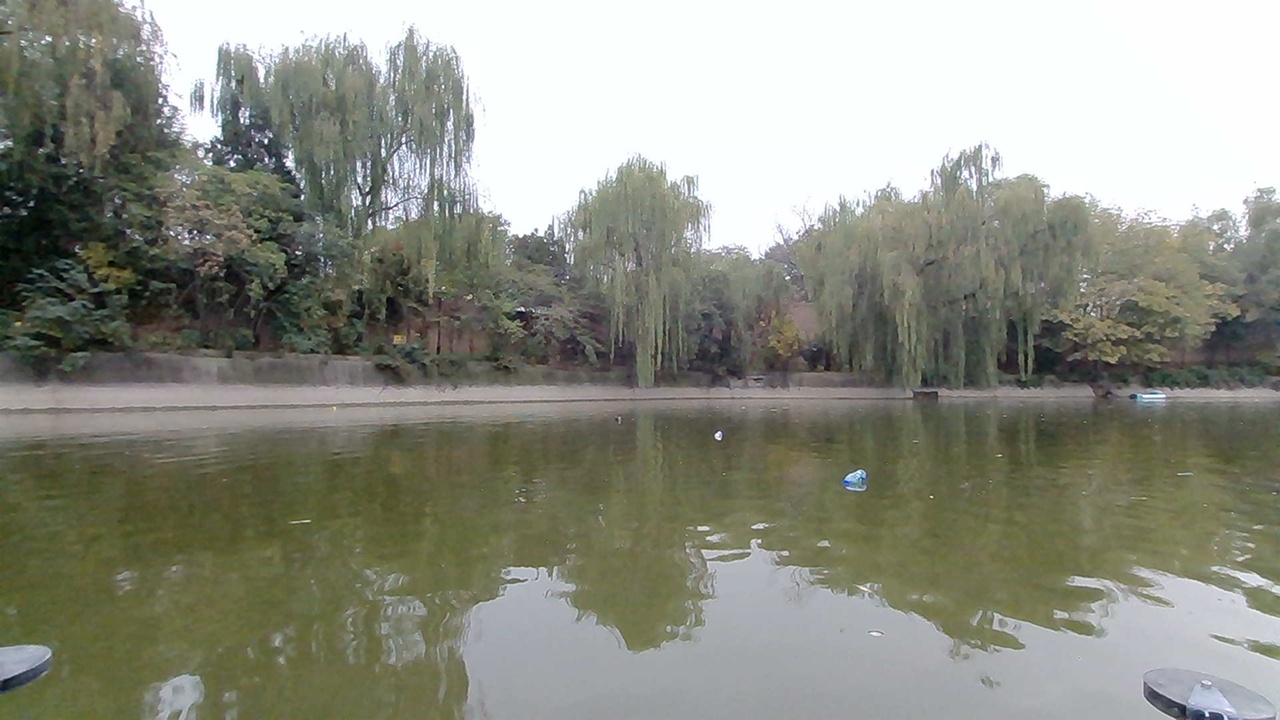bottle: (827, 461, 883, 498), (690, 423, 734, 453), (605, 405, 633, 431)
